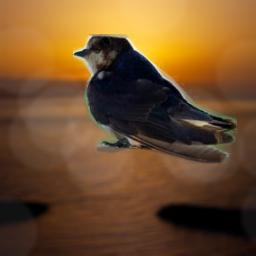Swallow: (73, 34, 237, 164)
